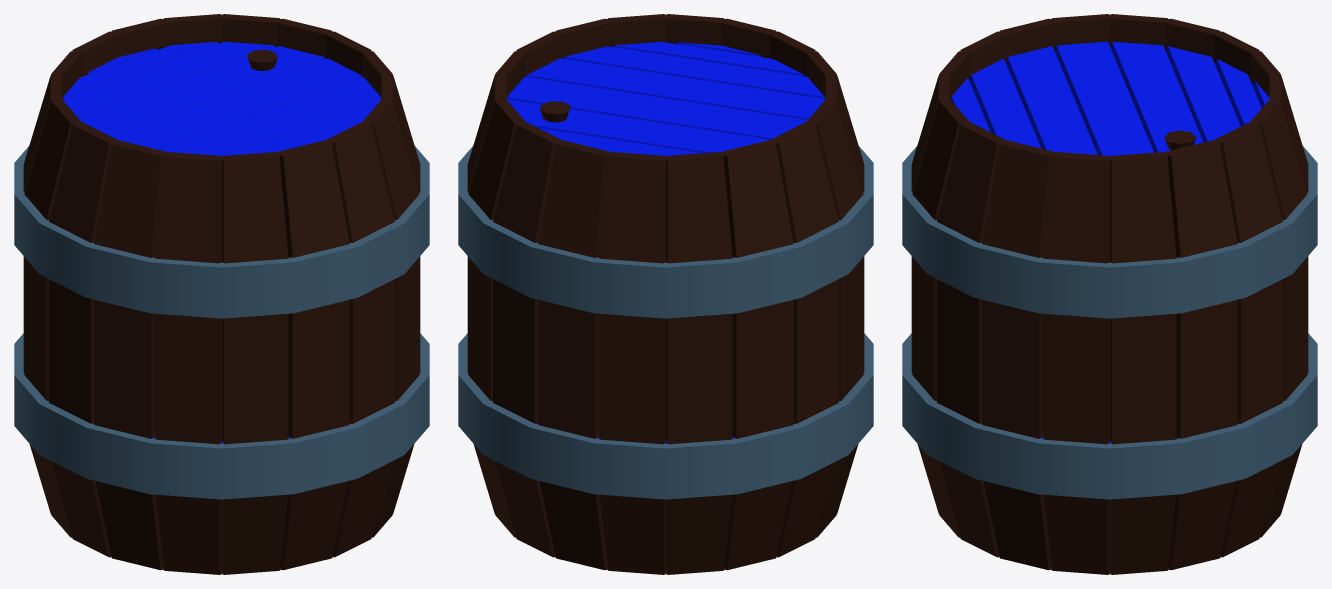
The model's file is tonneau.fbx.
3 views of the same model, side by side, from view 1: azimuth 30°, elevation 25°; view 2: azimuth 150°, elevation 25°; view 3: azimuth 270°, elevation 25° (orthographic).
Visible parts, largest first — view 1: Cylinder001, Object001, Object002; view 2: Cylinder001, Object001, Object002; view 3: Cylinder001, Object001, Object002.
Part boxes in pixels (x1,y1,x2,y2): Cylinder001: (23, 14, 420, 574); Object001: (14, 146, 429, 499); Object002: (62, 41, 381, 443); Cylinder001: (467, 14, 864, 574); Object001: (458, 146, 873, 499); Object002: (506, 41, 825, 443); Cylinder001: (911, 14, 1308, 574); Object001: (902, 146, 1317, 499); Object002: (951, 41, 1269, 443).
Size of the model in its own units: 36.34 by 39.37 by 35.79.
